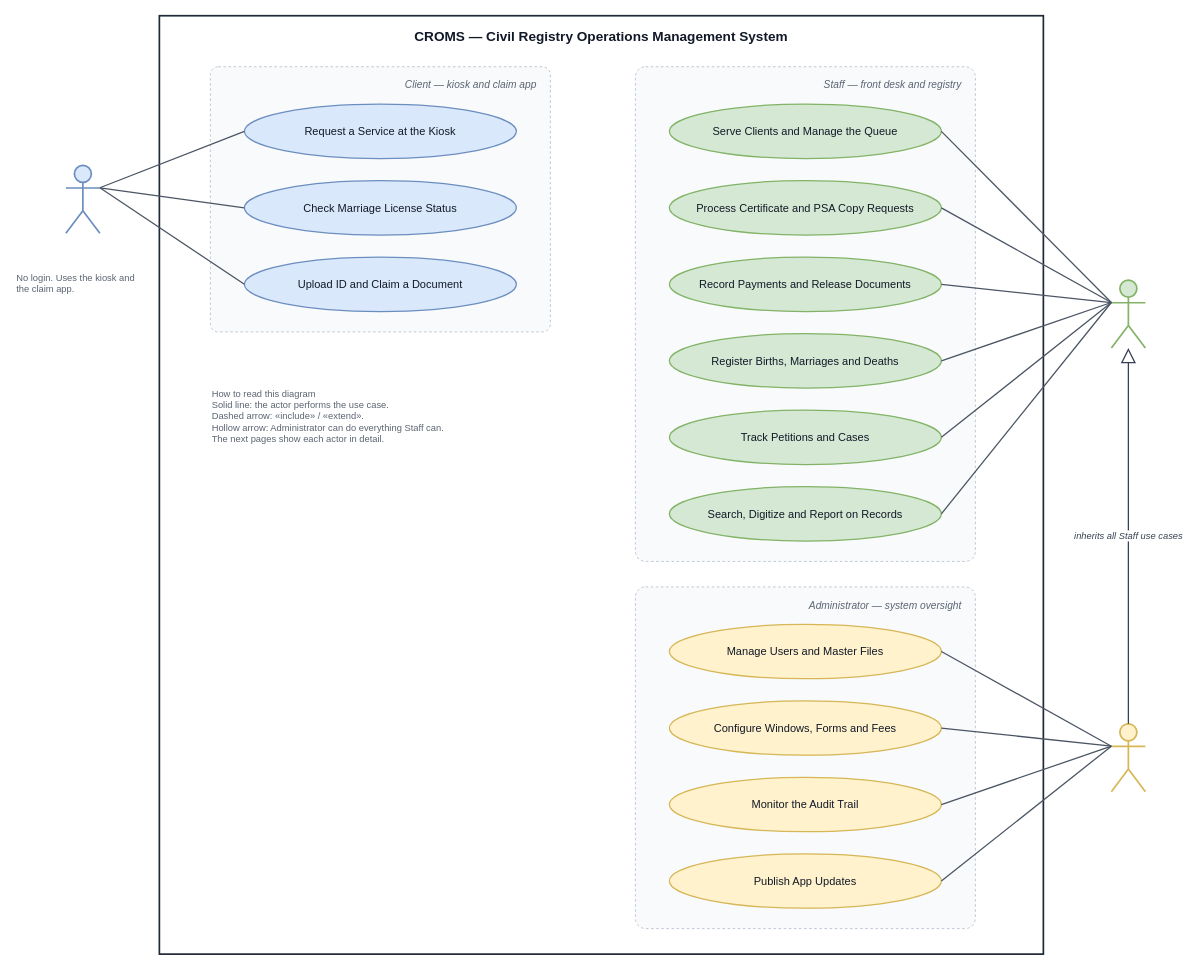
This 1197x969 diagram has some shape labels left out. Each missing label, with the centre of its shape:
Administrator: [1128,757]
Client: [82,199]
Staff: [1128,313]
